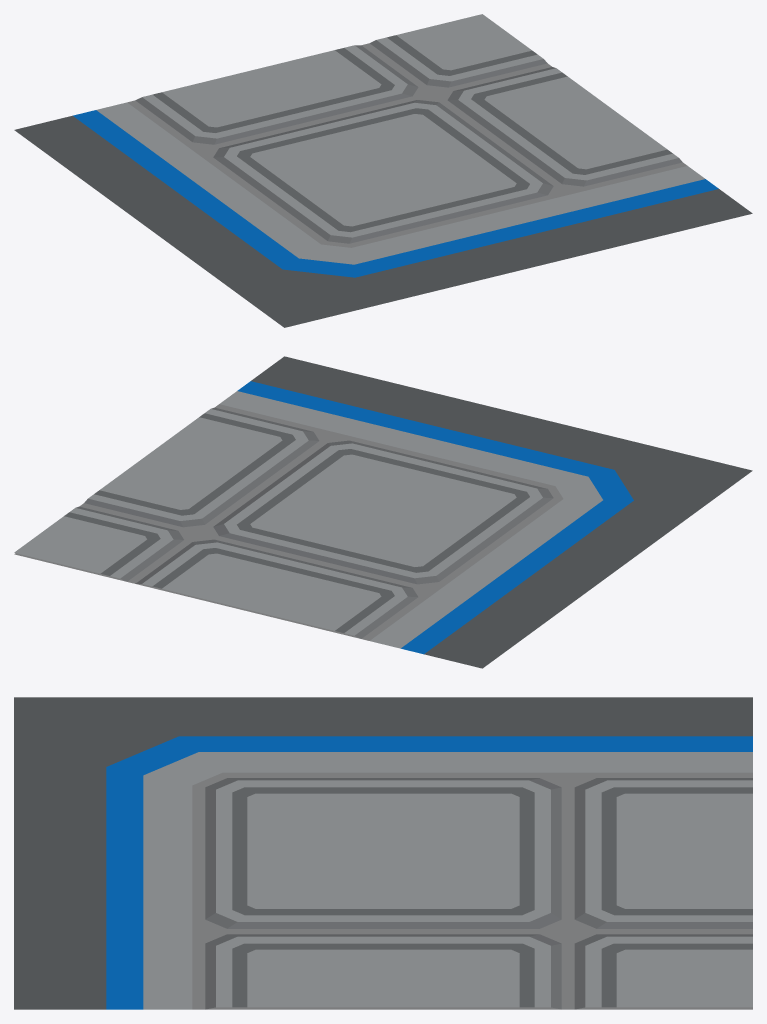
The model's file is Floor_type_B_028.fbx.
3 views of the same model, one above another, from view 1: azimuth 30°, elevation 25°; view 2: azimuth 150°, elevation 25°; view 3: azimuth 270°, elevation 25° (orthographic). The views are drawn at different scales.
Visible parts, largest first — view 1: Floor_type_B_028; view 2: Floor_type_B_028; view 3: Floor_type_B_028.
Part boxes in pixels (x1=…): Floor_type_B_028: x1=14, y1=14, x2=752, y2=327; Floor_type_B_028: x1=14, y1=356, x2=752, y2=668; Floor_type_B_028: x1=14, y1=697, x2=752, y2=1009.
Bounding box in the file's own units: 400 × 400 × 1.34.
